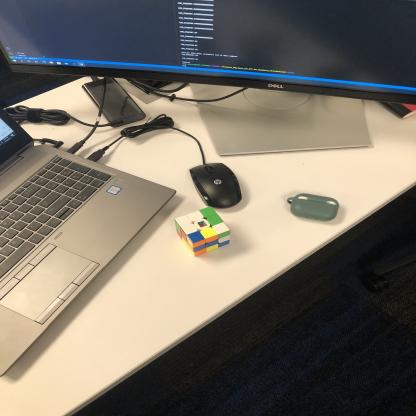UnsolvedCube: (168, 208, 235, 253)
